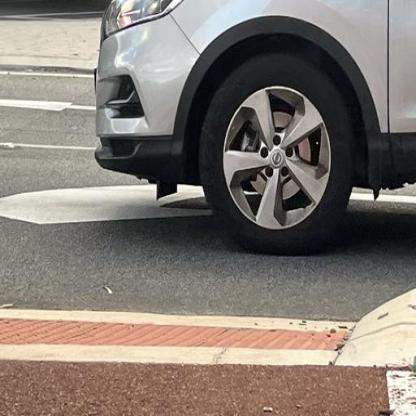Tire: (198, 53, 355, 254)
